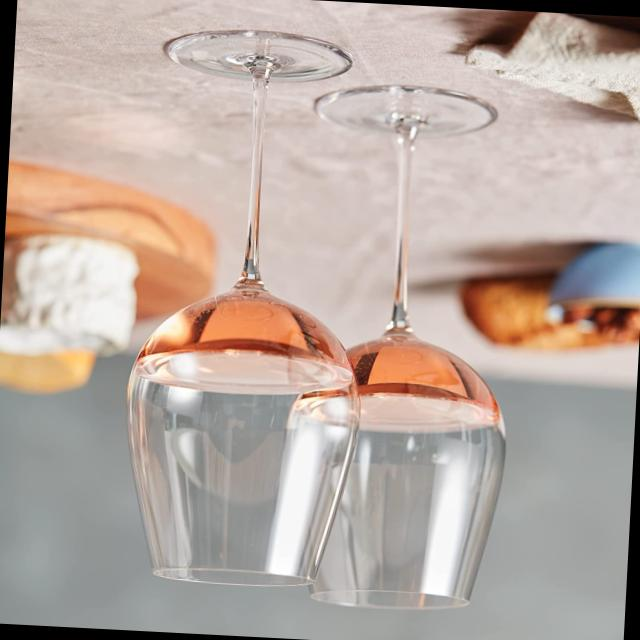glass: (97, 7, 395, 598), (290, 35, 535, 634)
